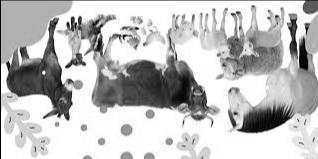Non_Gorille: (12, 0, 298, 156)
